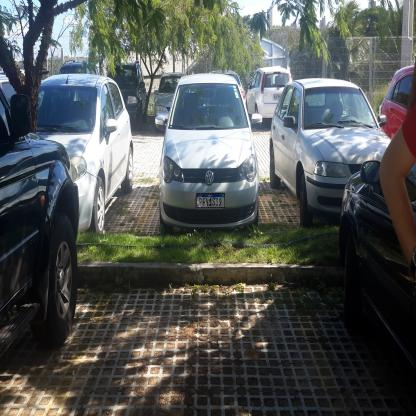PlacaM: (196, 193, 225, 208)
